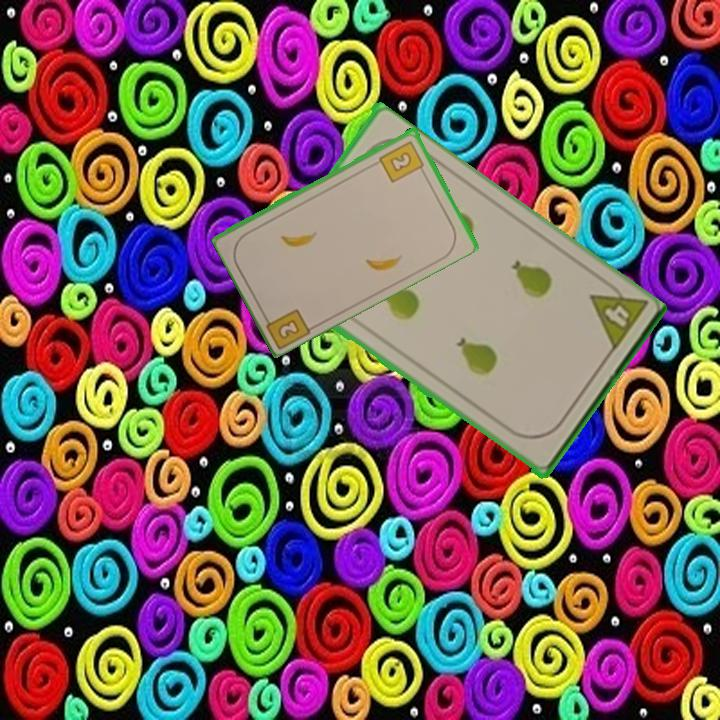2b: (376, 137, 428, 185), (259, 305, 314, 350)
4p: (585, 274, 650, 356)
